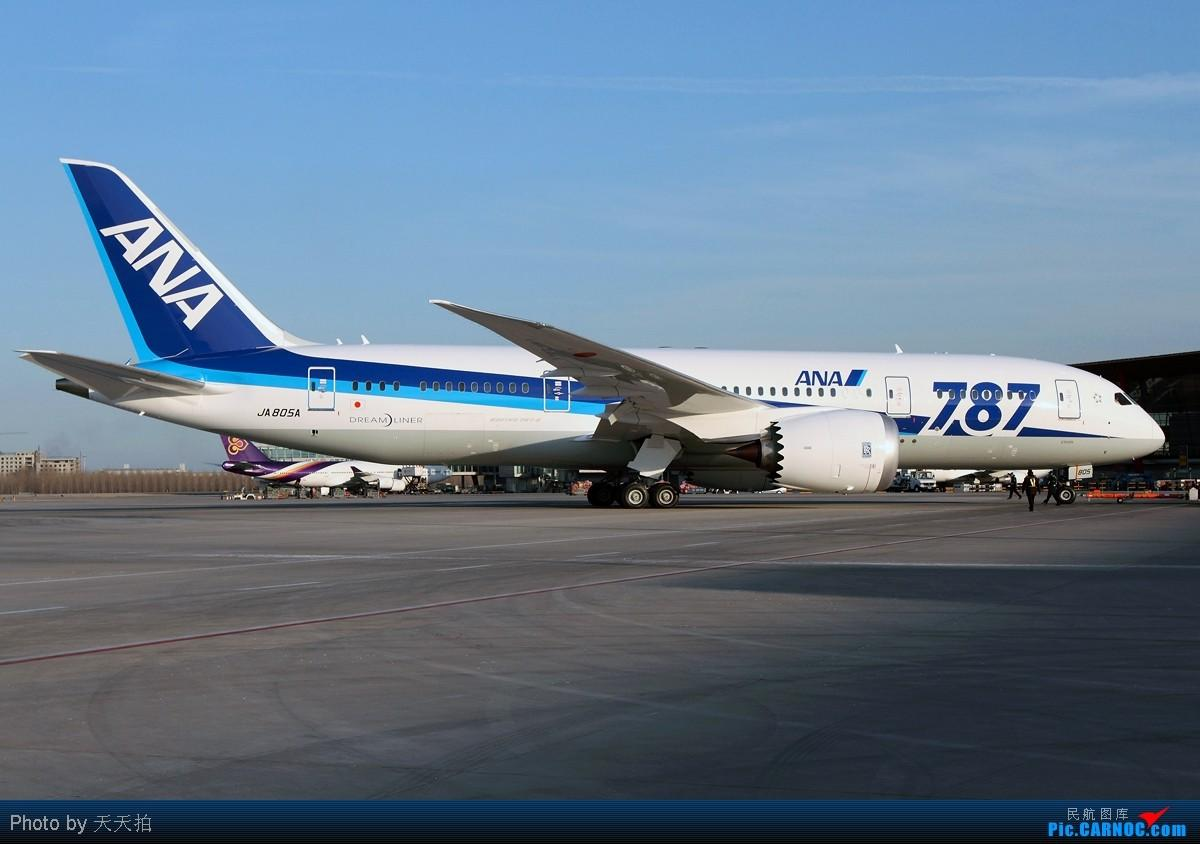airplane: (29, 148, 1175, 511)
